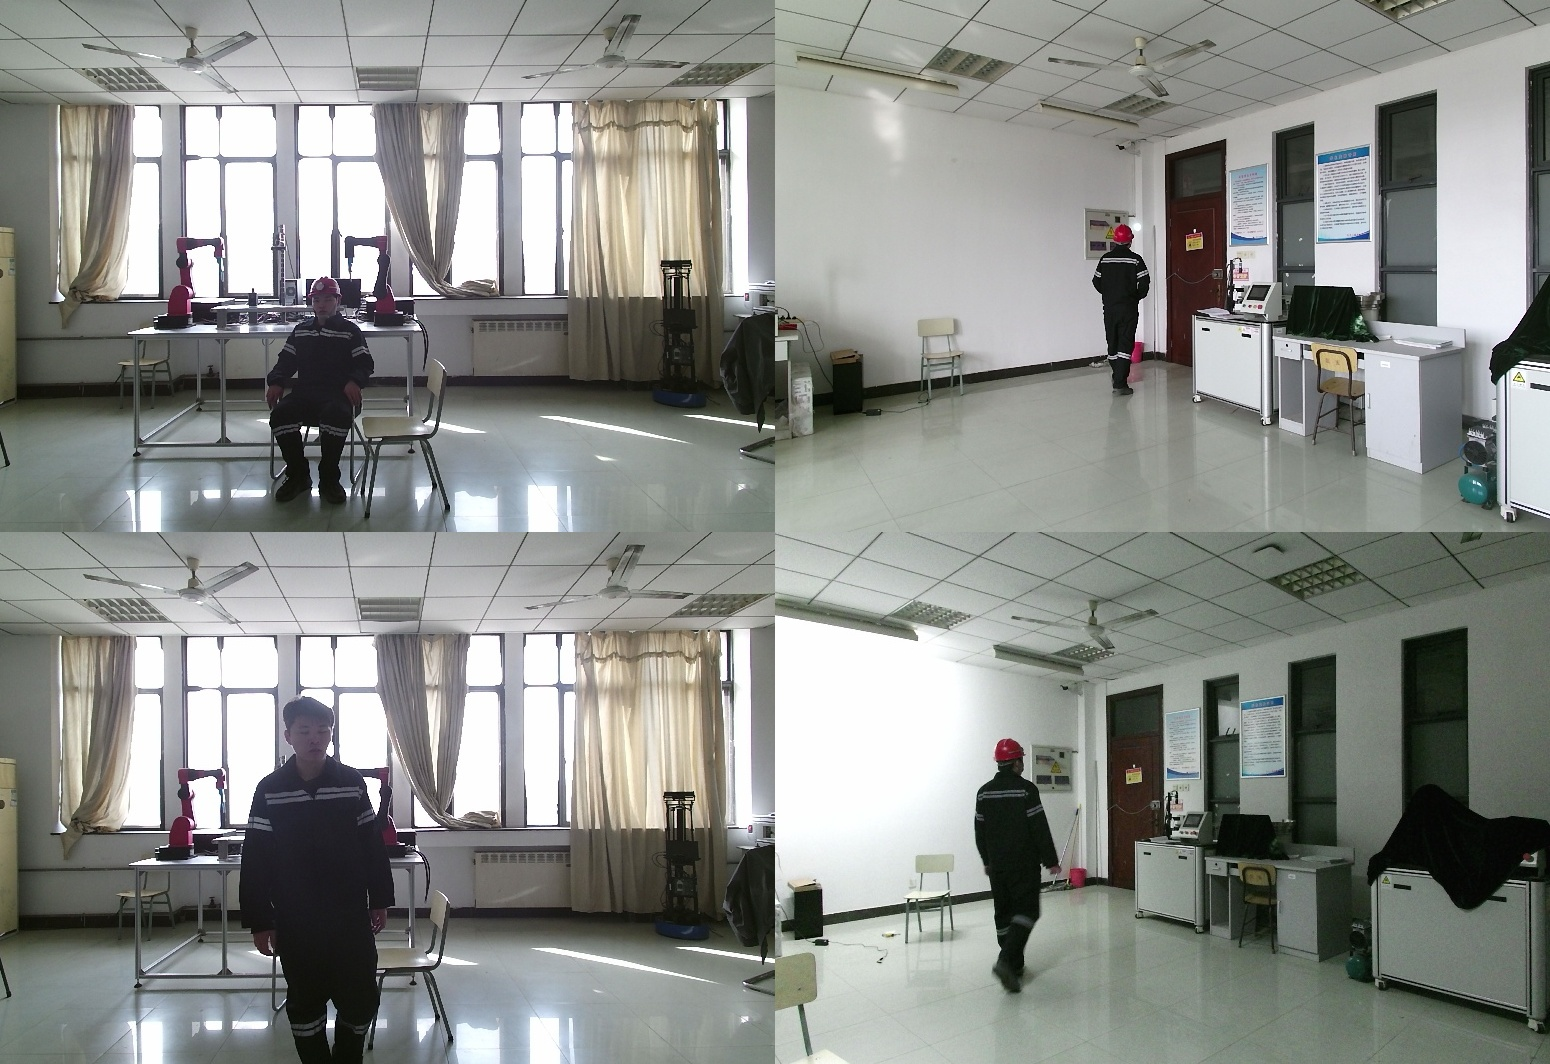person: (244, 700, 401, 1064), (268, 278, 380, 504), (967, 740, 1063, 1002), (1089, 226, 1154, 405)
